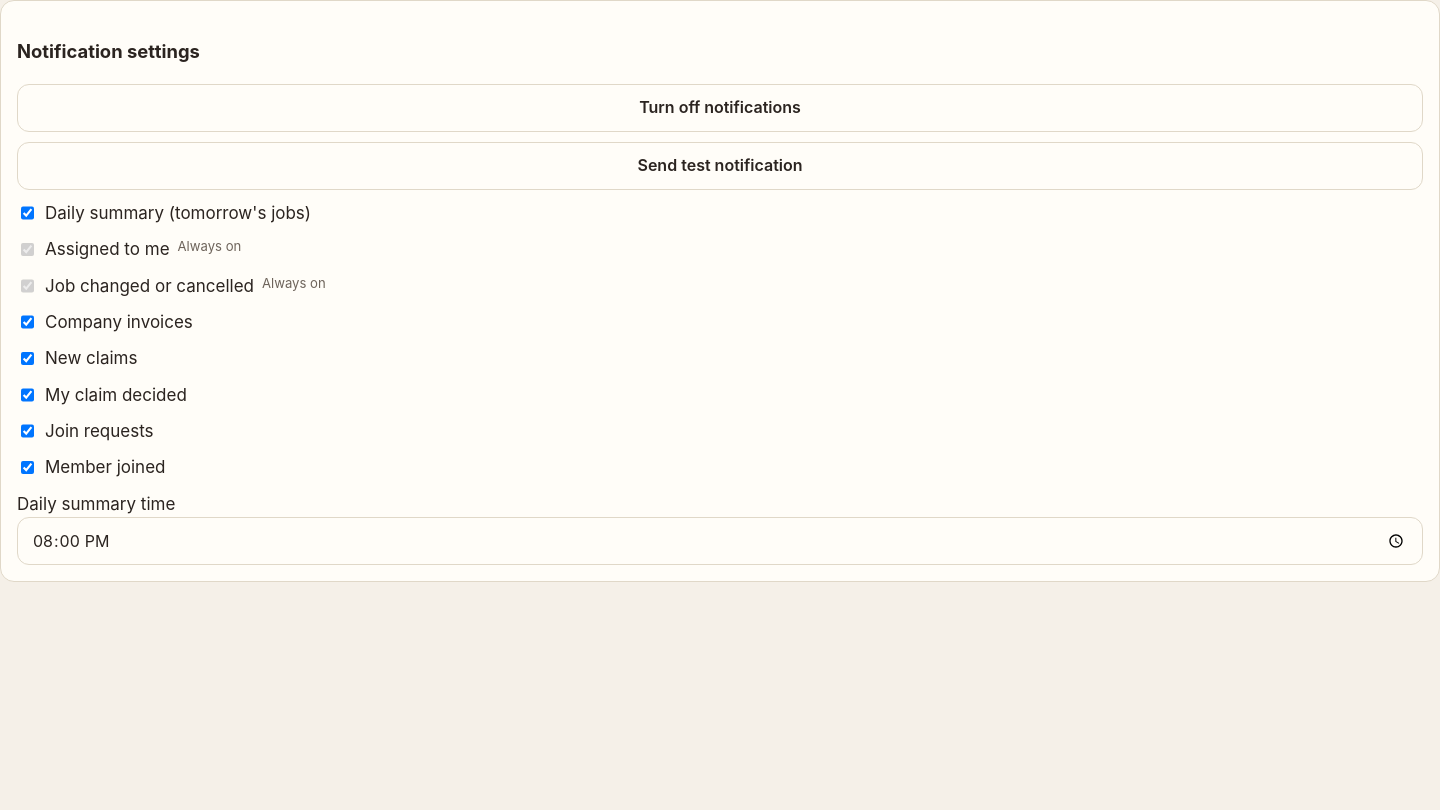
Test case: NotifySettings › test failure shows the push service status code
The image size is (1440, 810).
Click the button "Send test notification".
click(720, 166)  # box x1=17 y1=142 x2=1423 y2=190
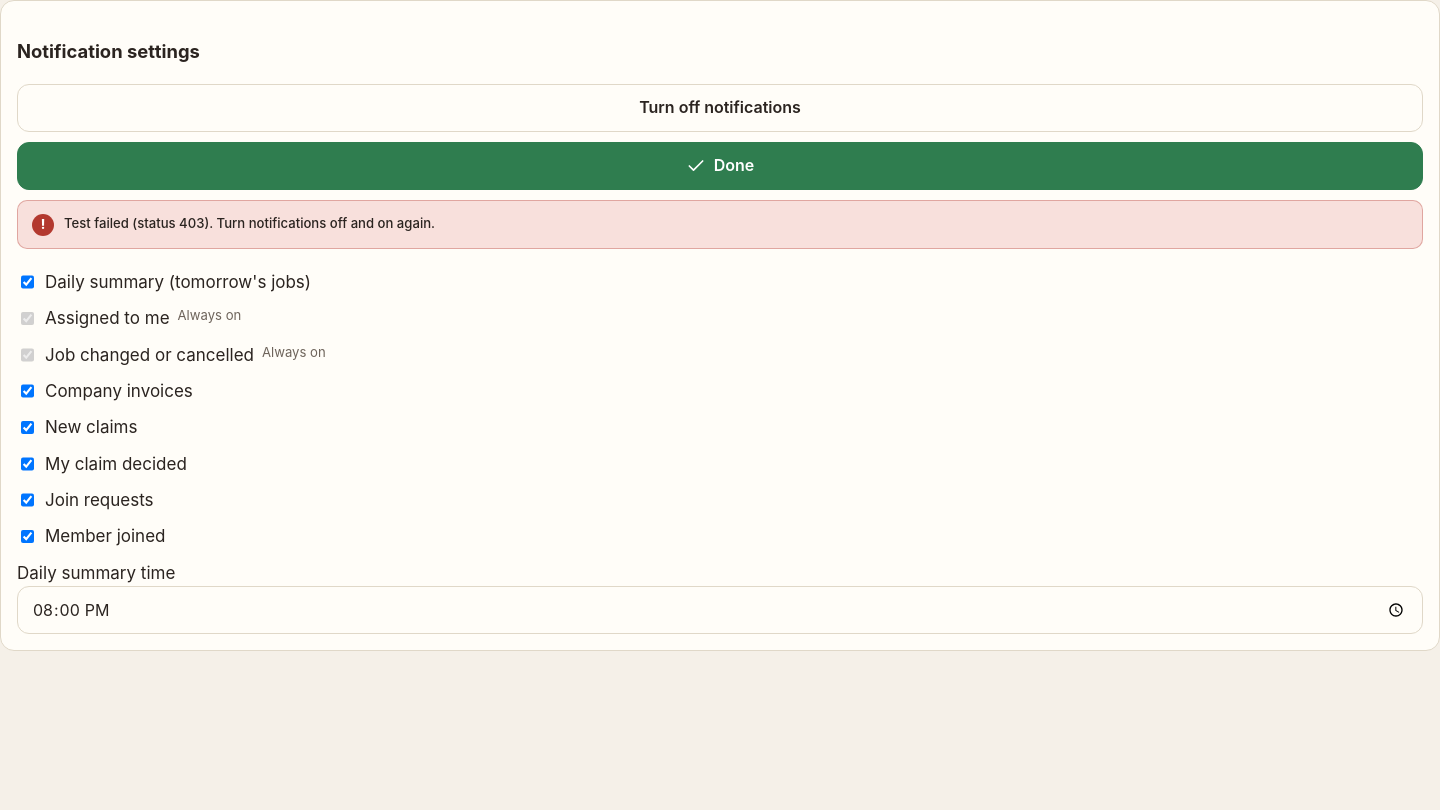
Check: the text "Test failed (status 403). Turn notifications off and on again." is shown, box x1=17 y1=200 x2=1423 y2=249
